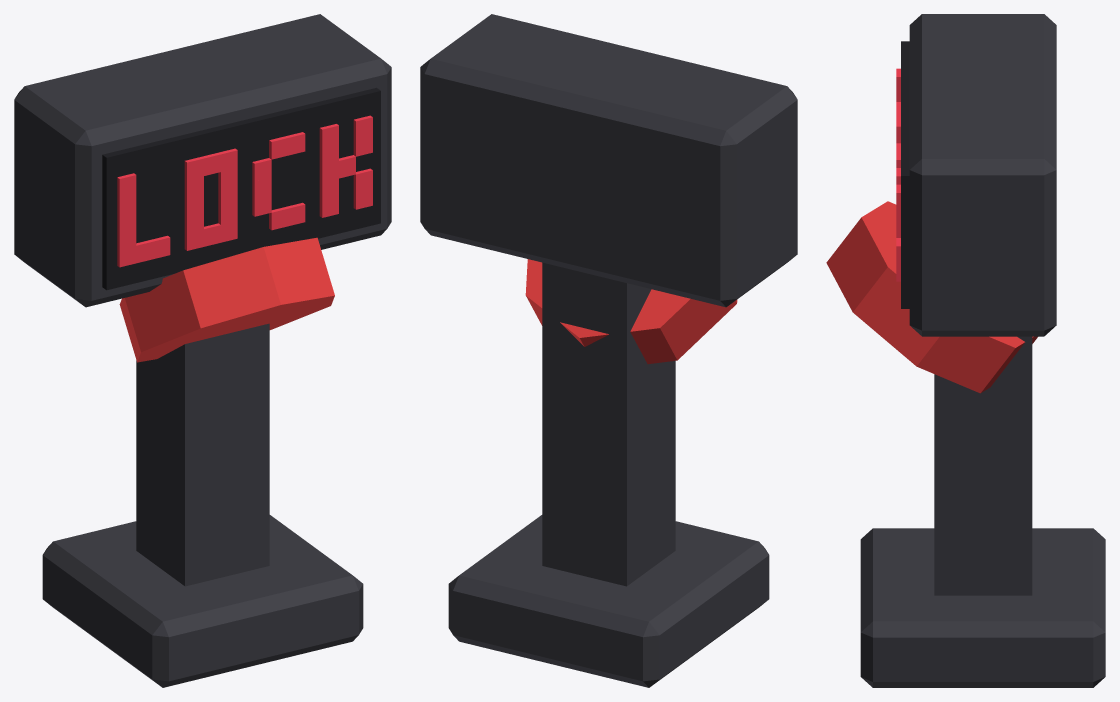
Rendered from LockButton.fbx.
The picture shows the model from 3 angles, left to right: view 1: azimuth 30°, elevation 25°; view 2: azimuth 150°, elevation 25°; view 3: azimuth 270°, elevation 25°; orthographic projection.
Parts seen in each view (by area): view 1: LockButton, LockButton_Button; view 2: LockButton, LockButton_Button; view 3: LockButton, LockButton_Button.
Part boxes in pixels (left/top/right/bottom): LockButton: left=14, top=14, right=391, bottom=687; LockButton_Button: left=119, top=237, right=334, bottom=362; LockButton: left=420, top=14, right=797, bottom=687; LockButton_Button: left=525, top=259, right=737, bottom=364; LockButton: left=860, top=14, right=1105, bottom=687; LockButton_Button: left=826, top=201, right=1037, bottom=393.
Size of the model in its own units: 3 by 5 by 2.28.
1 material, 1 textured.
